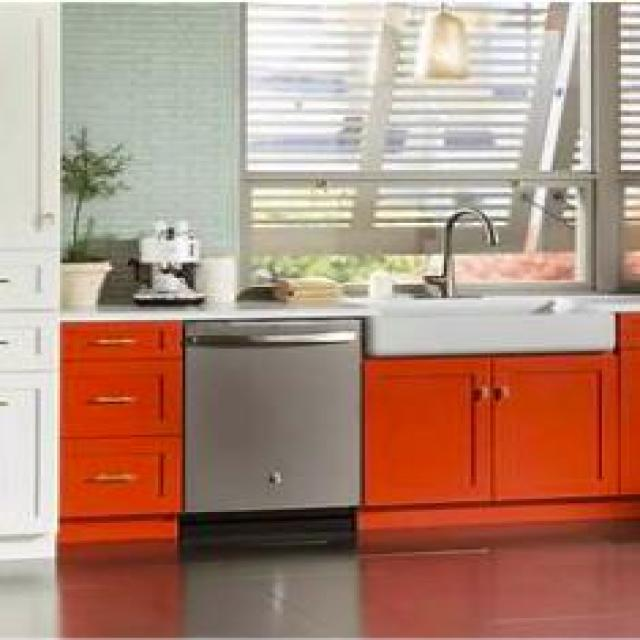dishwasher: (182, 313, 360, 512)
